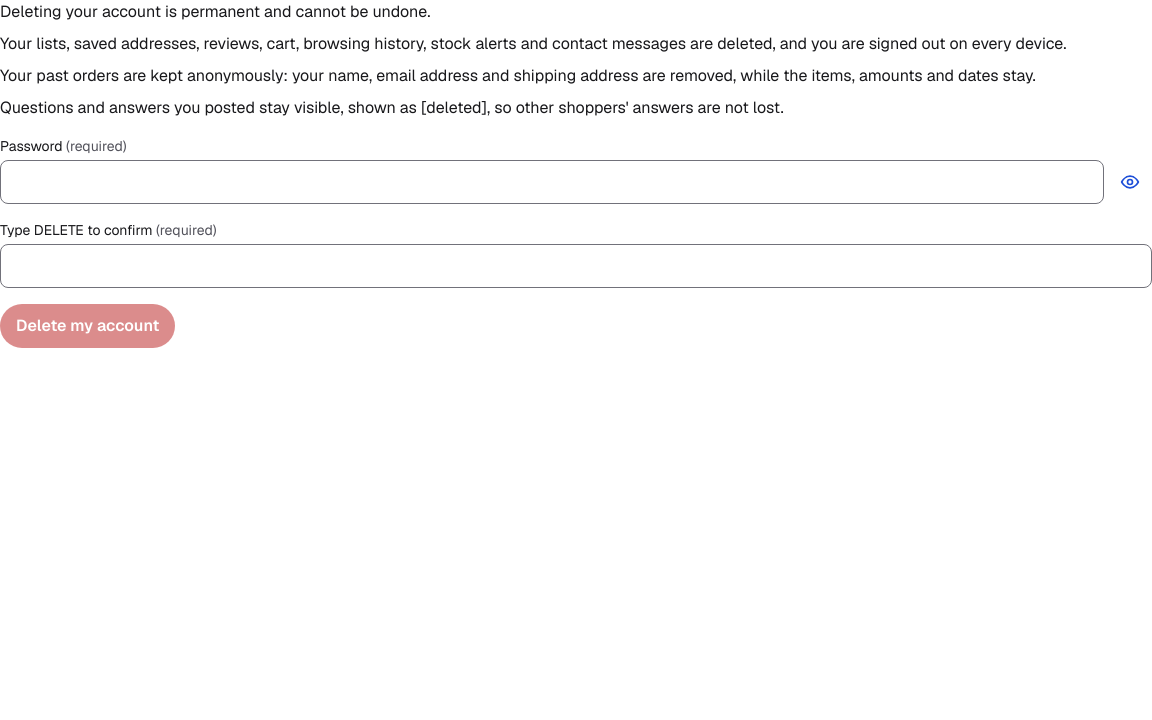
Test case: DeleteAccountForm interactions (hydrated) › wrong password: INVALID_CREDENTIALS on the password field, focused summary, fields + gate reset
Type "Sentinel-Pw-7a1f!x" into the password field labelled "Password (required)" at (552, 182), box 0,160 -> 1104,204
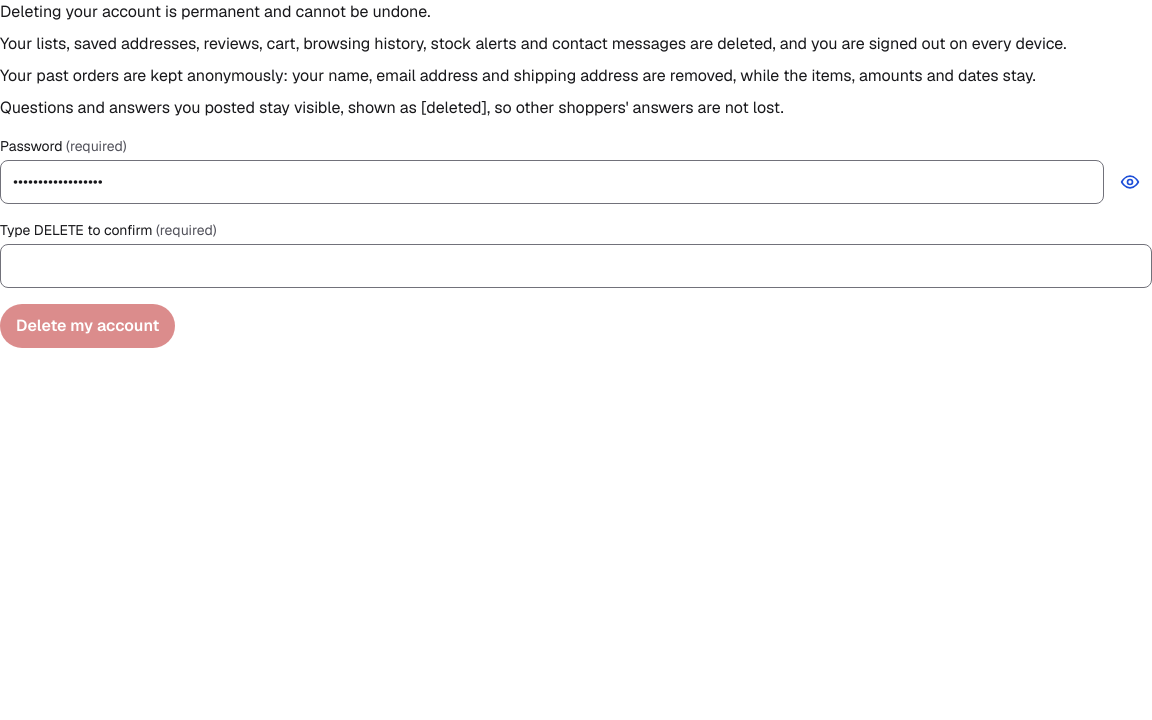
Type "DELETE" into the field labelled "Type DELETE to confirm (required)" at (576, 266), box 0,244 -> 1151,288
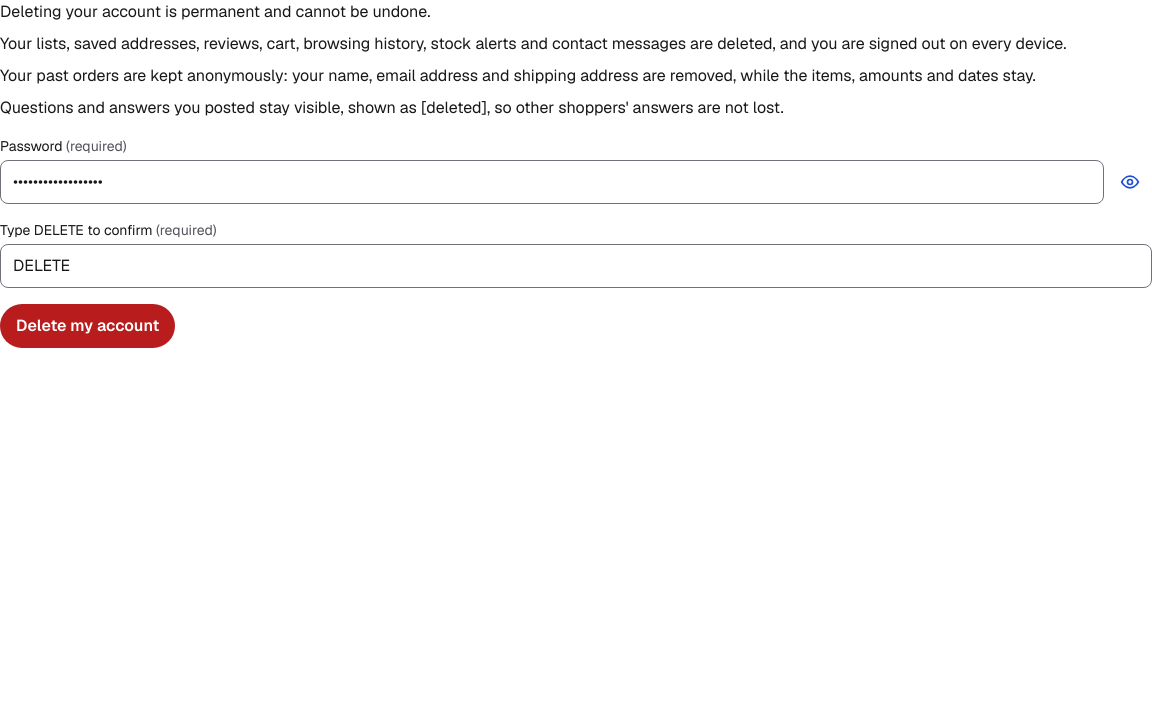
Click the submit button at (88, 326), box 0,304 -> 175,348
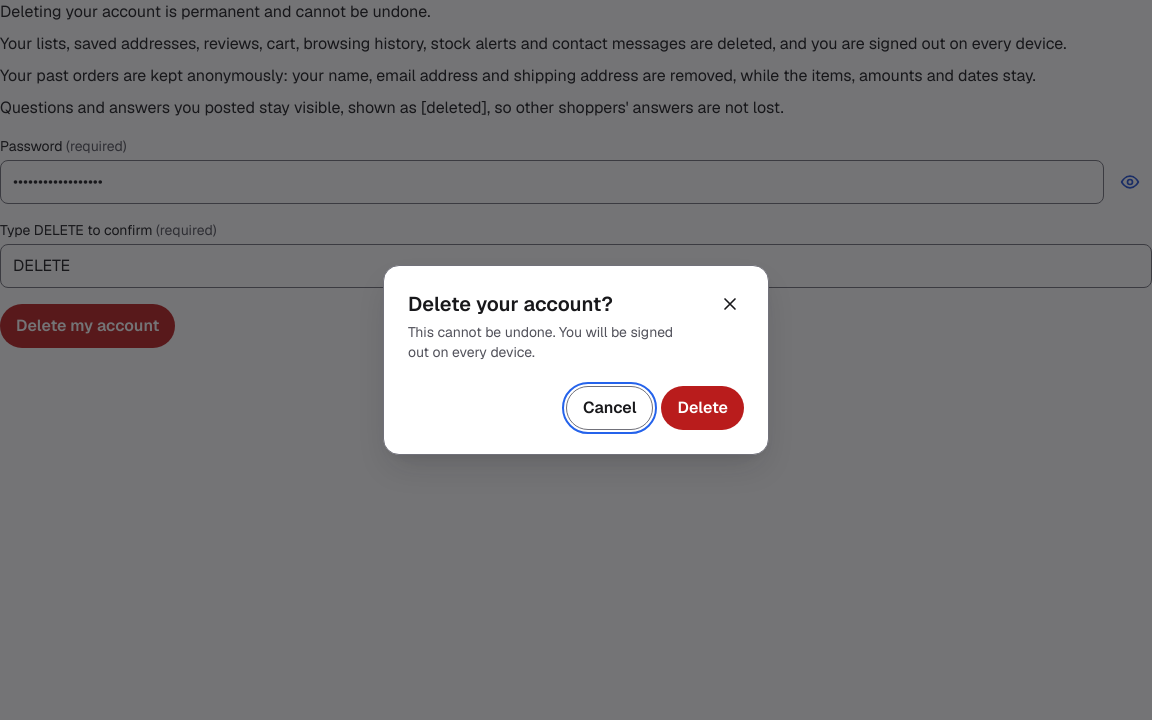
Click the button "Delete" at (703, 408), box 662,386 -> 744,430
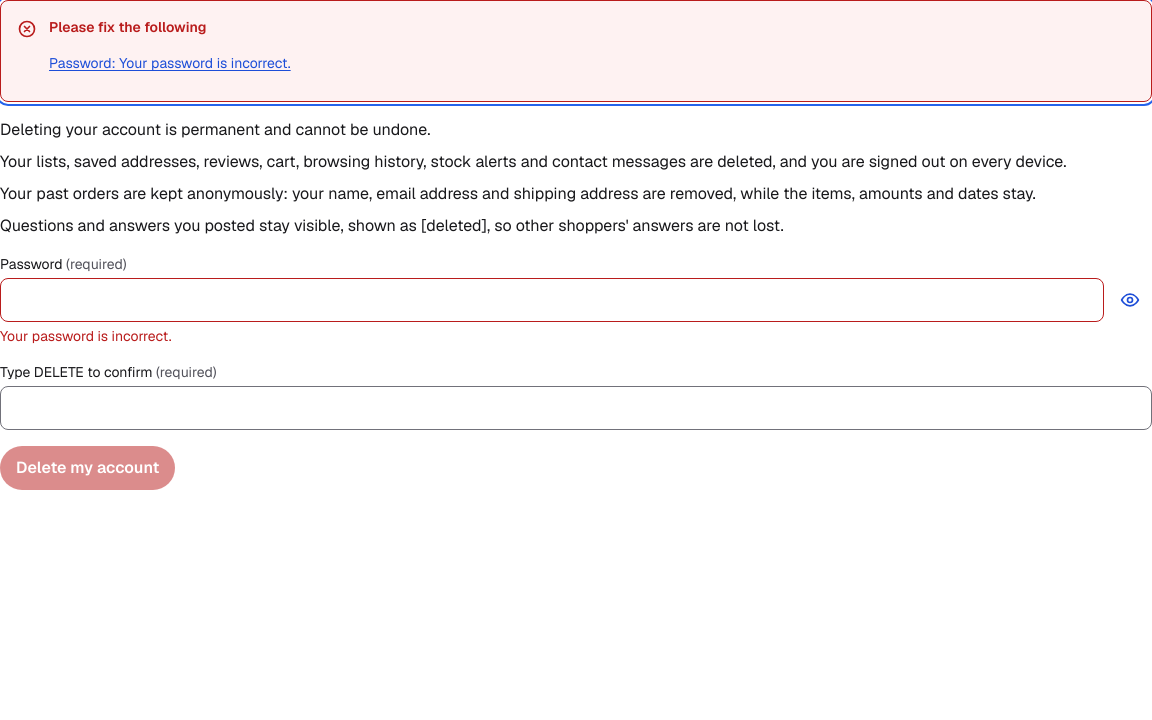
Expected: the message with test id "delete-error-summary" shows "Password: Your password is incorrect.", 49,41 -> 291,85
Expected: the submit button is disabled, 0,446 -> 175,490
